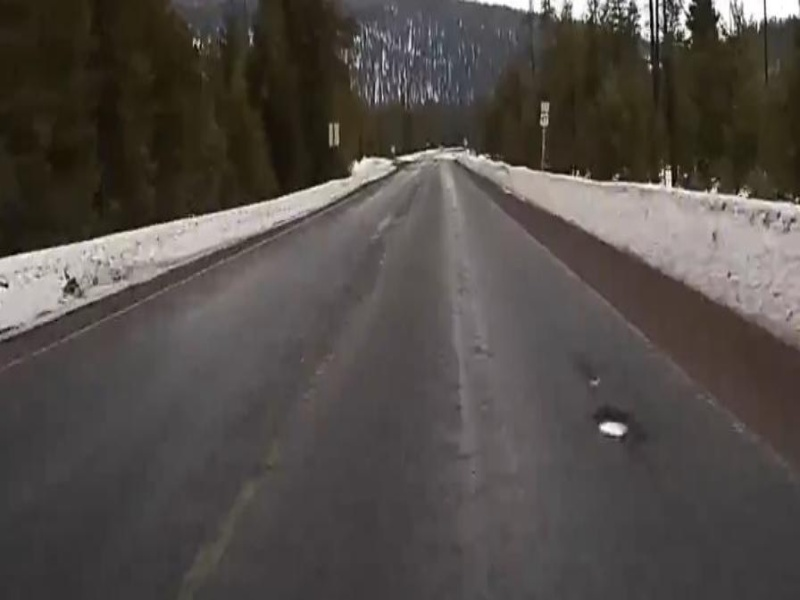pothole: (593, 410, 636, 441)
